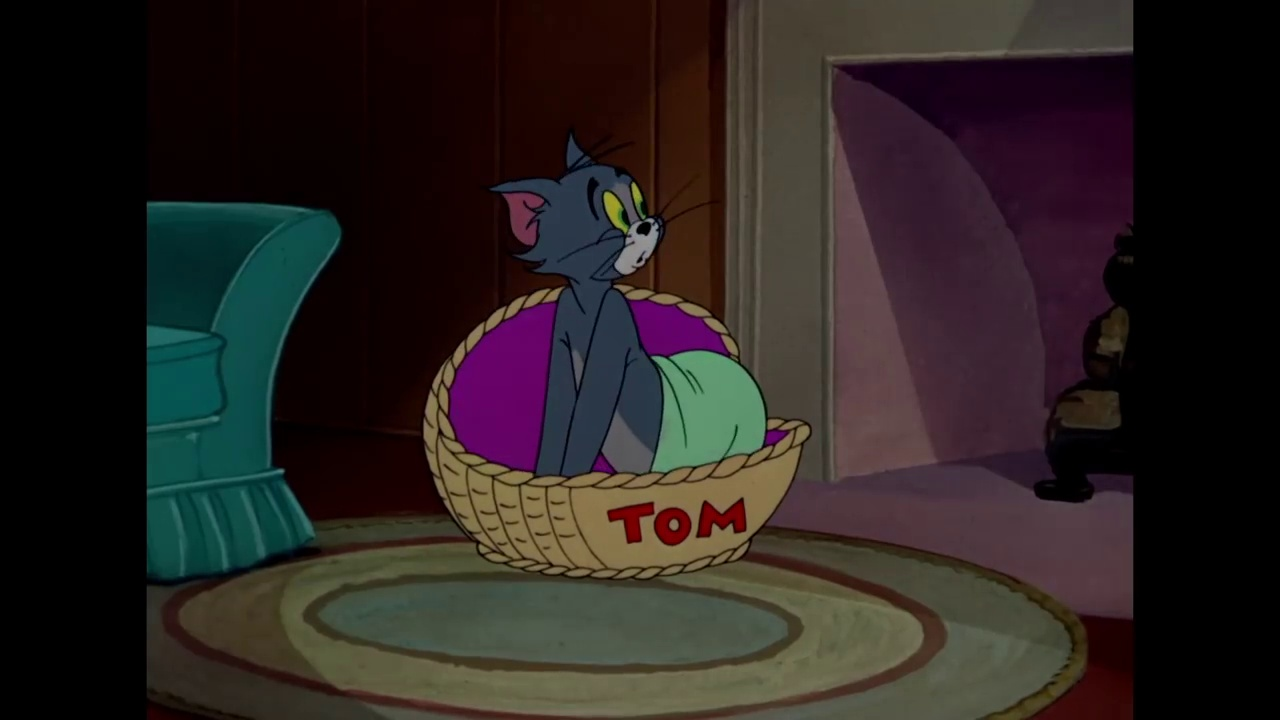tom: (486, 128, 666, 292)
